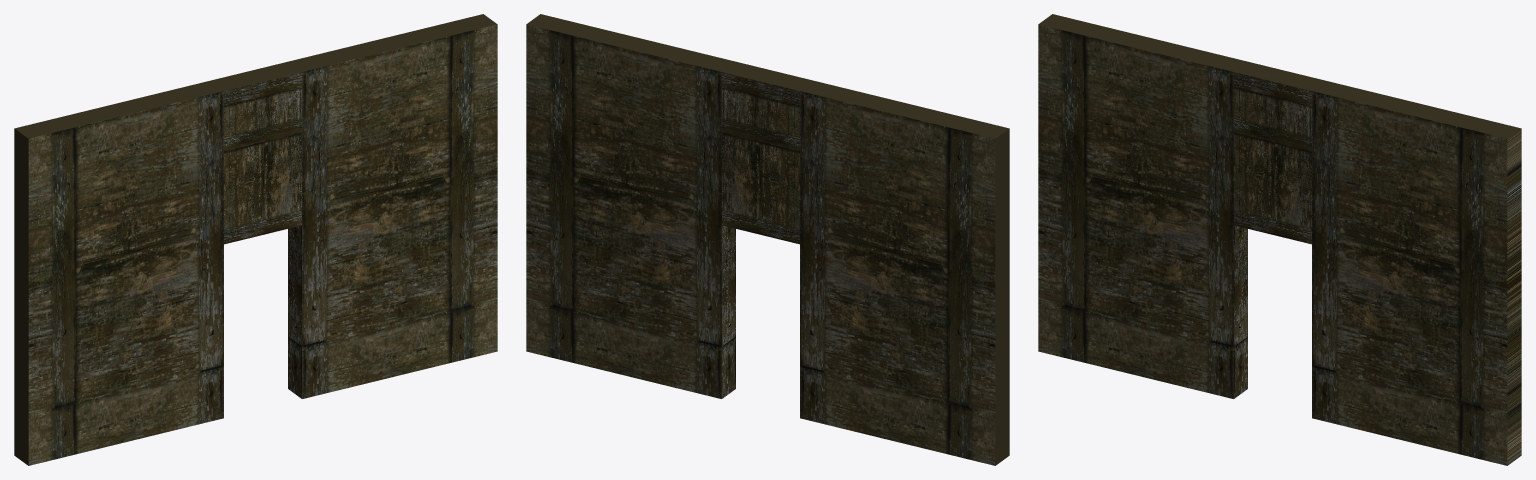
File: sciana.glb
3 views of the same model, side by side, from view 1: azimuth 30°, elevation 25°; view 2: azimuth 150°, elevation 25°; view 3: azimuth 330°, elevation 25° (orthographic).
Parts seen in each view (by area): view 1: zengin; view 2: zengin; view 3: zengin.
Boxes of the visible parts, <box> form: zengin: <box>14,14,497,465</box>; zengin: <box>526,14,1009,465</box>; zengin: <box>1038,14,1521,465</box>.
Bounding box in the file's own units: 9.6 × 6.4 × 0.4998.
1 material, 1 textured.
